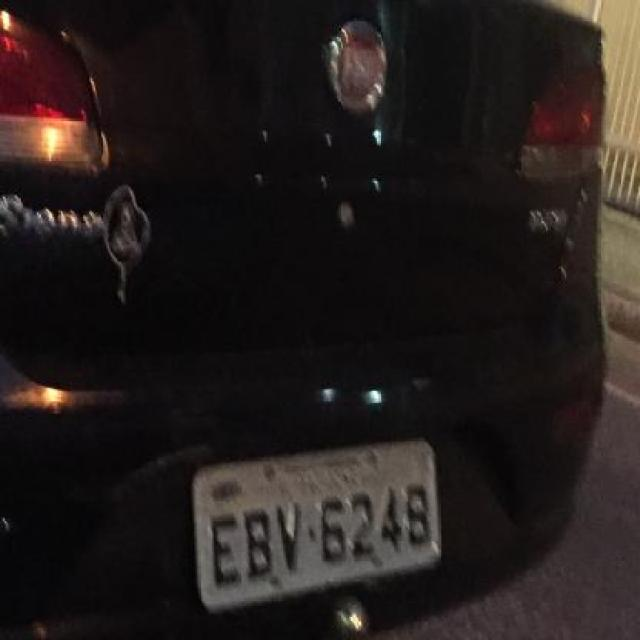old_plate: (187, 434, 447, 620)
